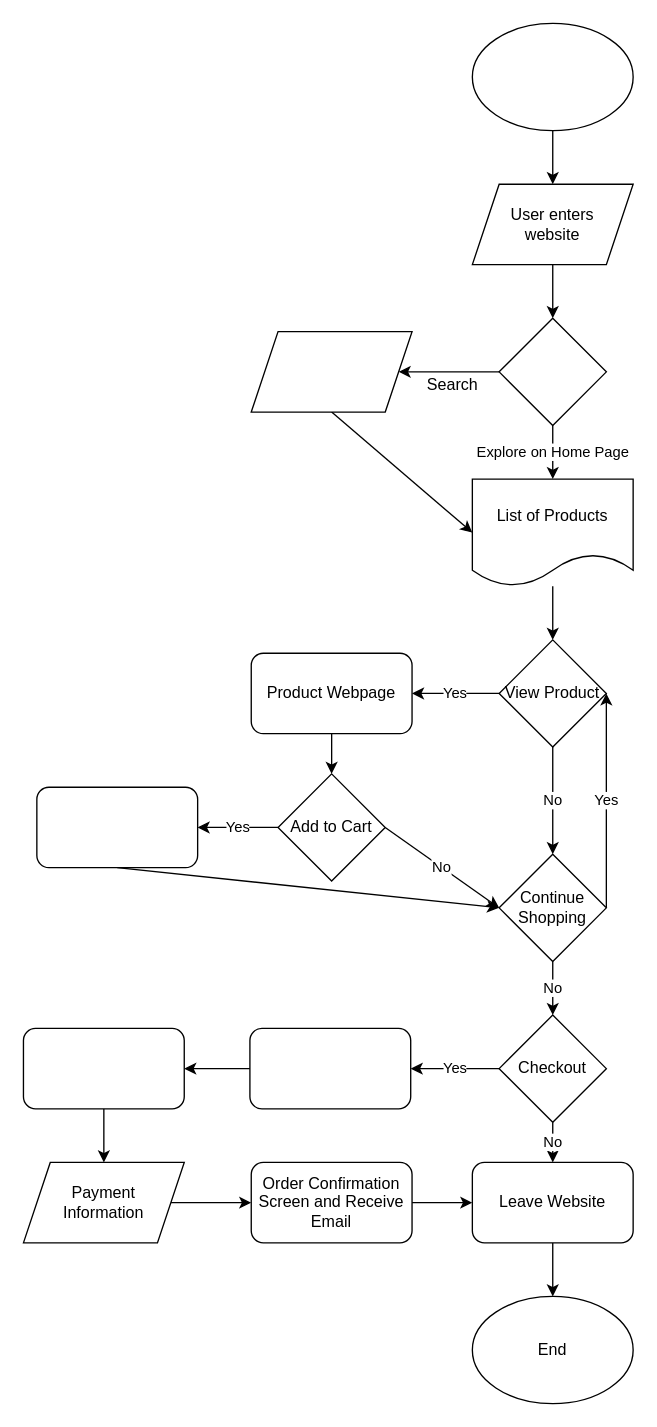
Some shapes in this 657 by 1427 pixel diagram are drawn without their labels. Each missing label, with the box of its shape:
Added to Cart Confirmation: (36, 786, 198, 868)
Product: (498, 317, 606, 425)
Search Input: (250, 330, 412, 412)
Start: (471, 22, 633, 131)
View Cart Screen: (249, 1027, 411, 1109)
View Payment Screen: (22, 1027, 184, 1109)
